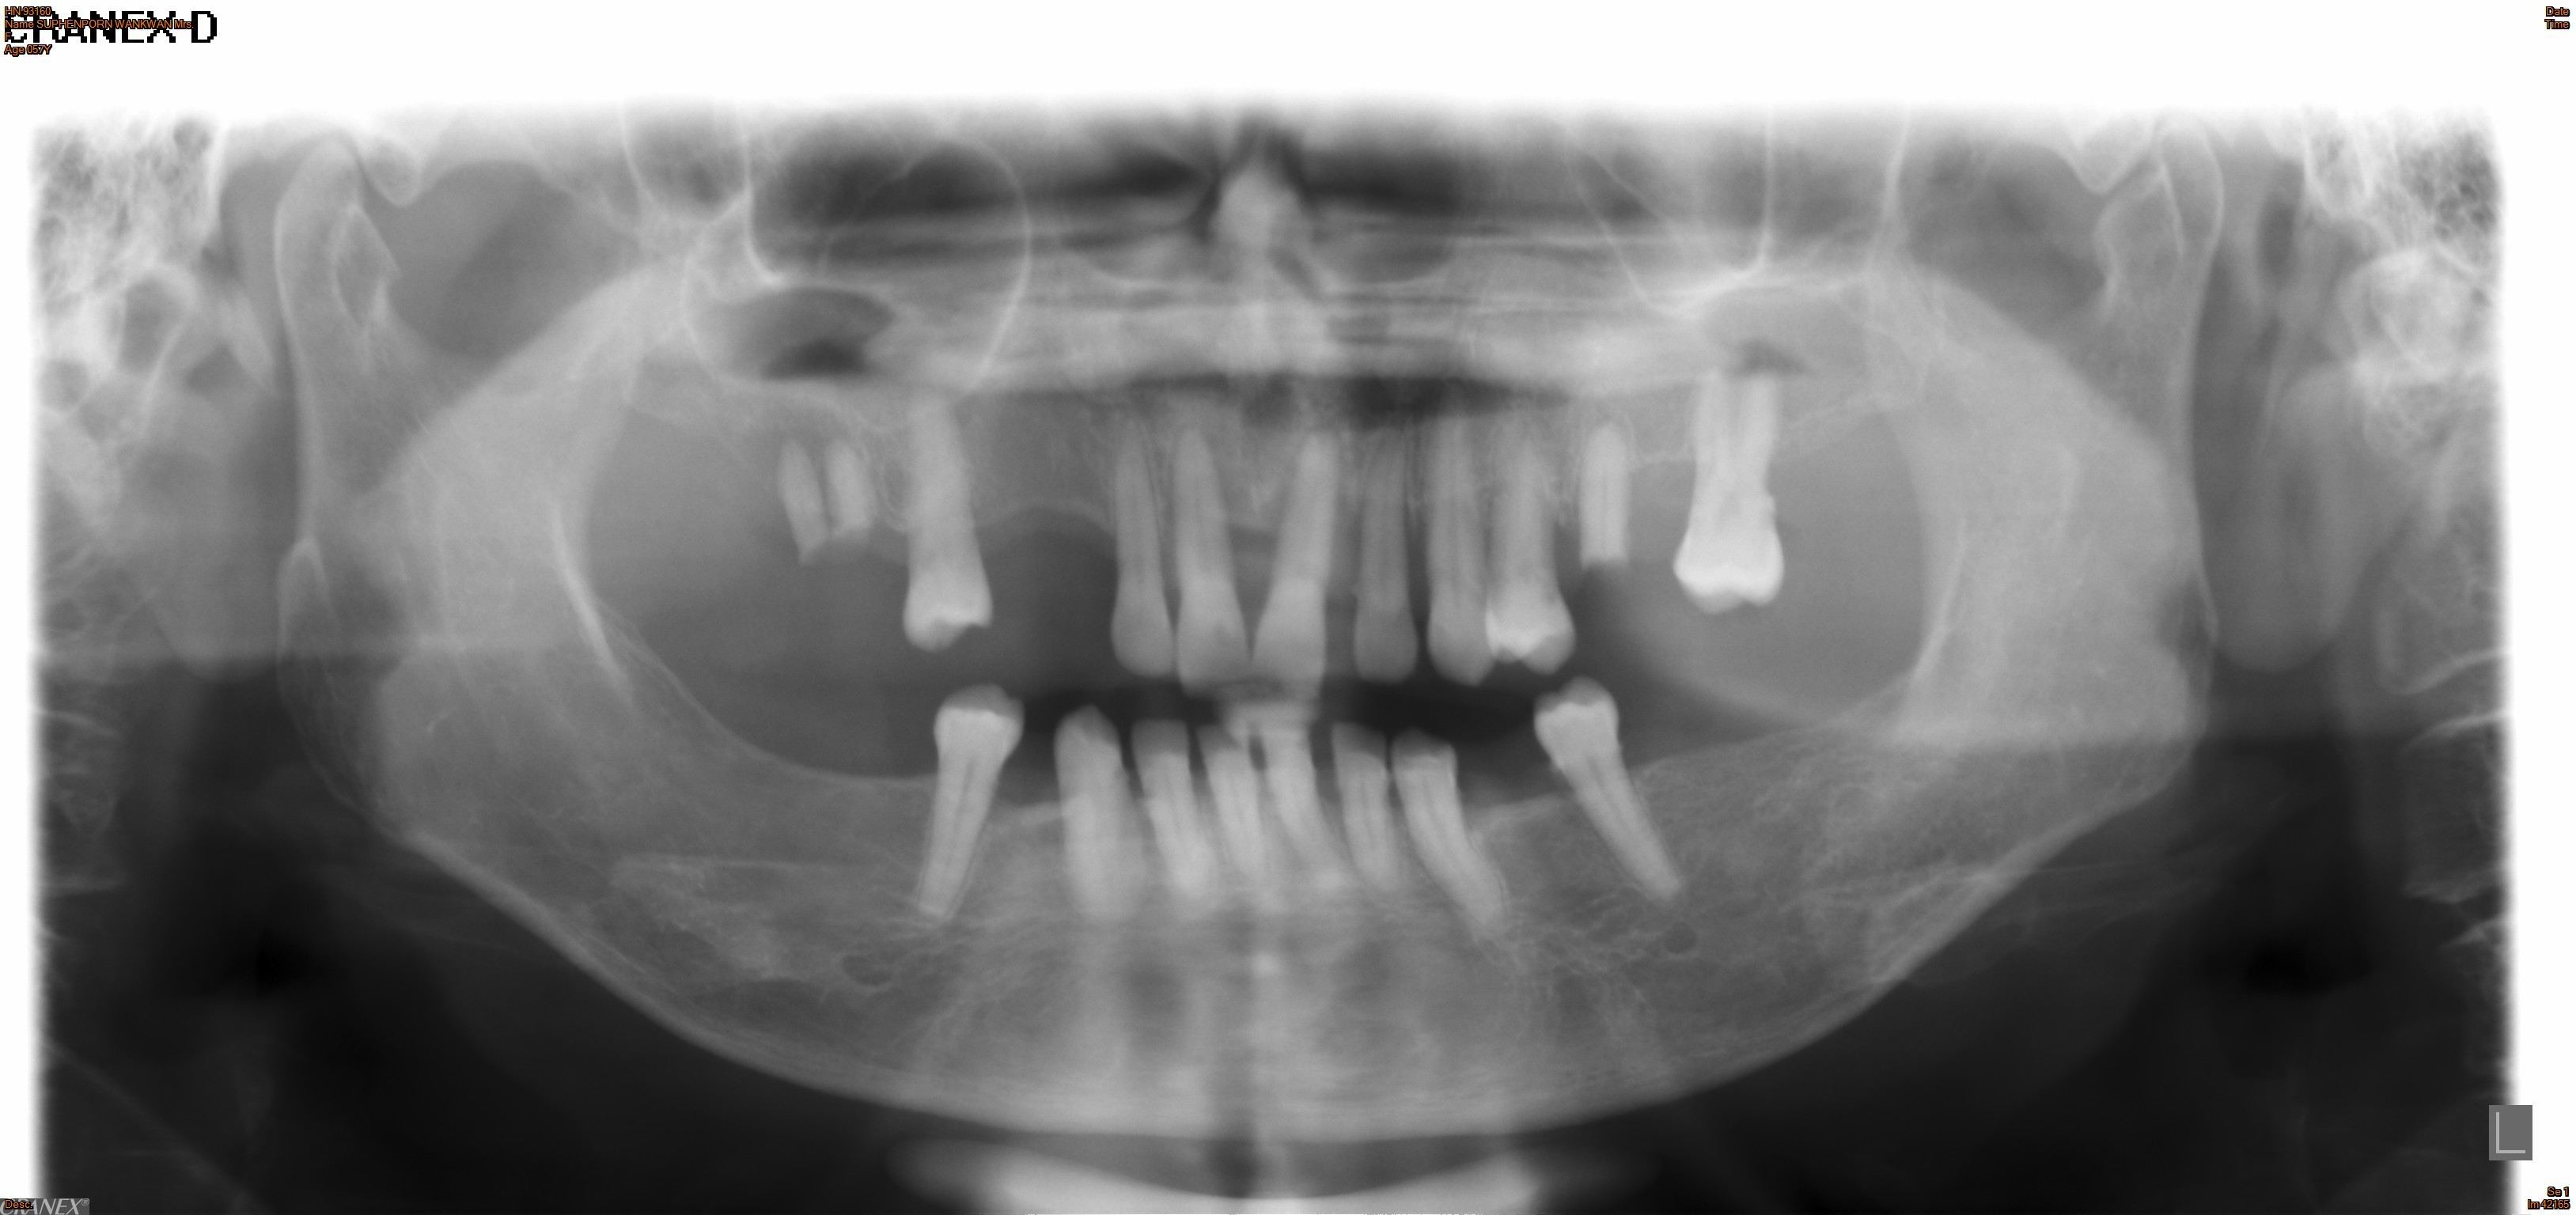periodontitis: (1525, 665, 1695, 918), (899, 678, 1042, 934), (1664, 358, 1794, 626), (892, 371, 1005, 657), (1244, 424, 1345, 709), (1418, 409, 1497, 693), (1102, 402, 1180, 688), (1344, 430, 1424, 696)
